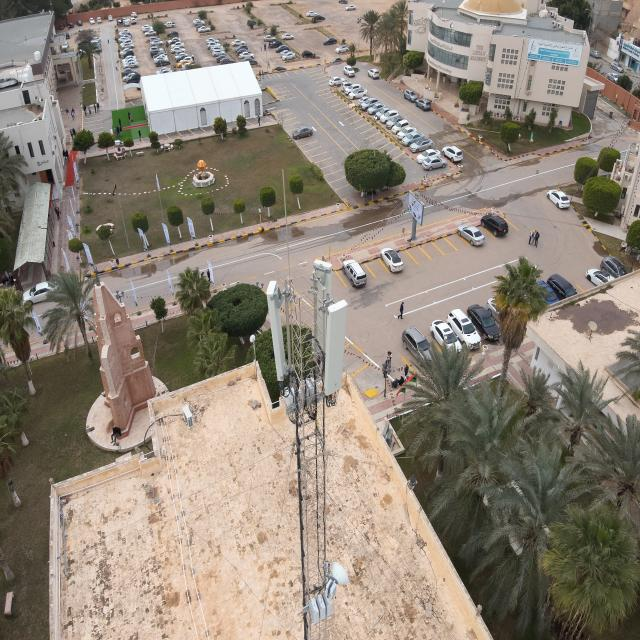antenna: (319, 298, 351, 397), (262, 280, 289, 379), (307, 256, 330, 354)
lighnig-rad: (278, 167, 293, 280)
microware-dish: (317, 558, 353, 596)
power-box: (308, 594, 337, 626)
